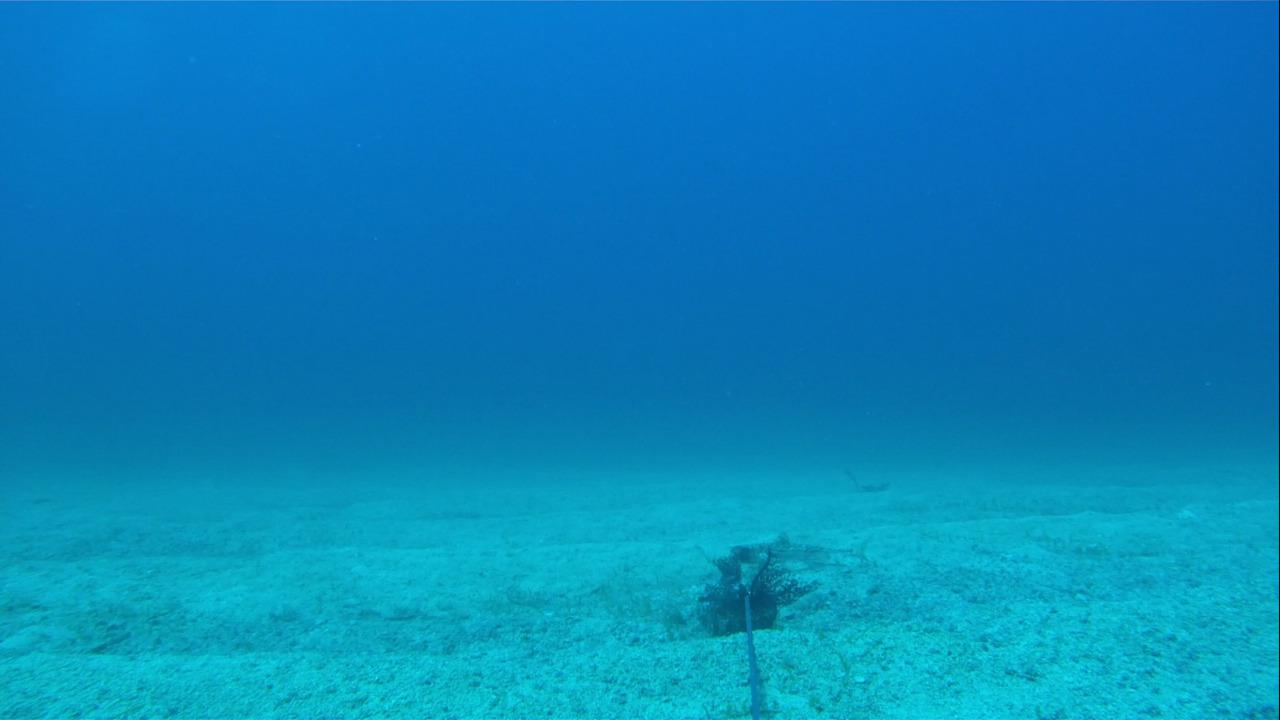dactylopterus: (726, 531, 879, 572)
